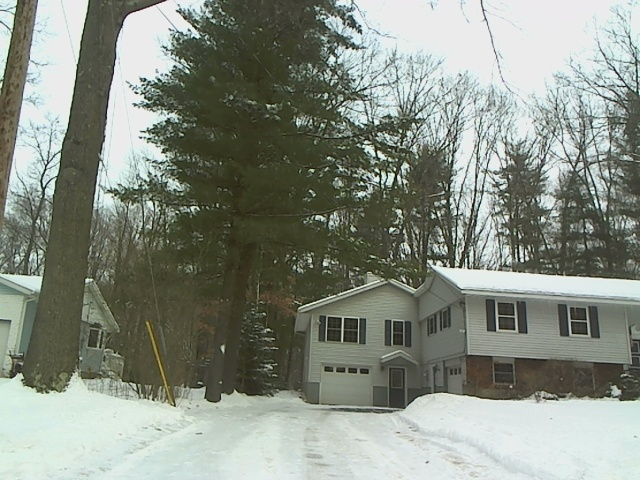Unploughed: (173, 402, 469, 480)
